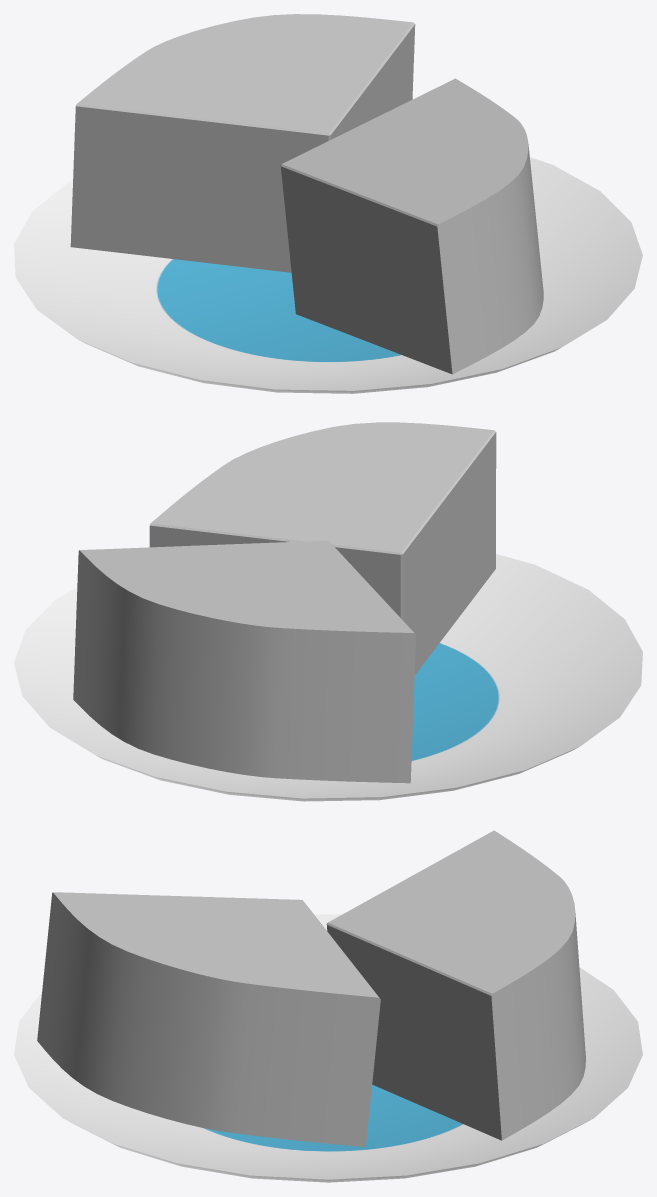
File: Cake 1.FBX
The picture shows the model from 3 angles, top to bottom: view 1: azimuth 30°, elevation 25°; view 2: azimuth 150°, elevation 25°; view 3: azimuth 270°, elevation 25°; orthographic projection.
Visible parts, largest first — view 1: Cake 1; view 2: Cake 1; view 3: Cake 1.
Boxes of the visible parts, left/top/right/bottom form: Cake 1: left=14, top=14, right=642, bottom=393; Cake 1: left=14, top=422, right=642, bottom=801; Cake 1: left=14, top=830, right=642, bottom=1182.
Size of the model in its own units: 29.49 by 10.36 by 29.55.
